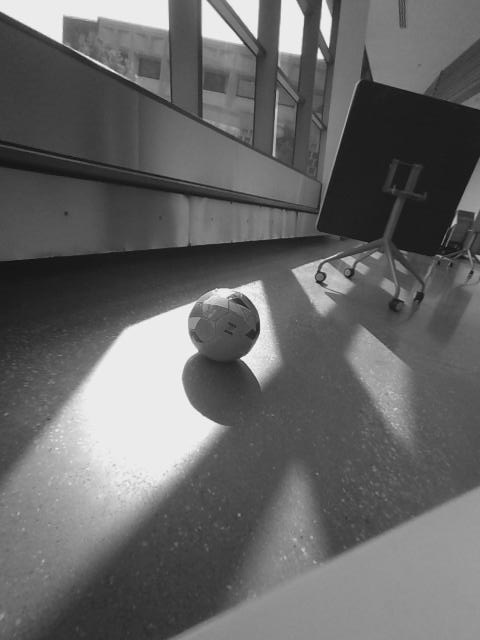ball: (185, 286, 262, 363)
